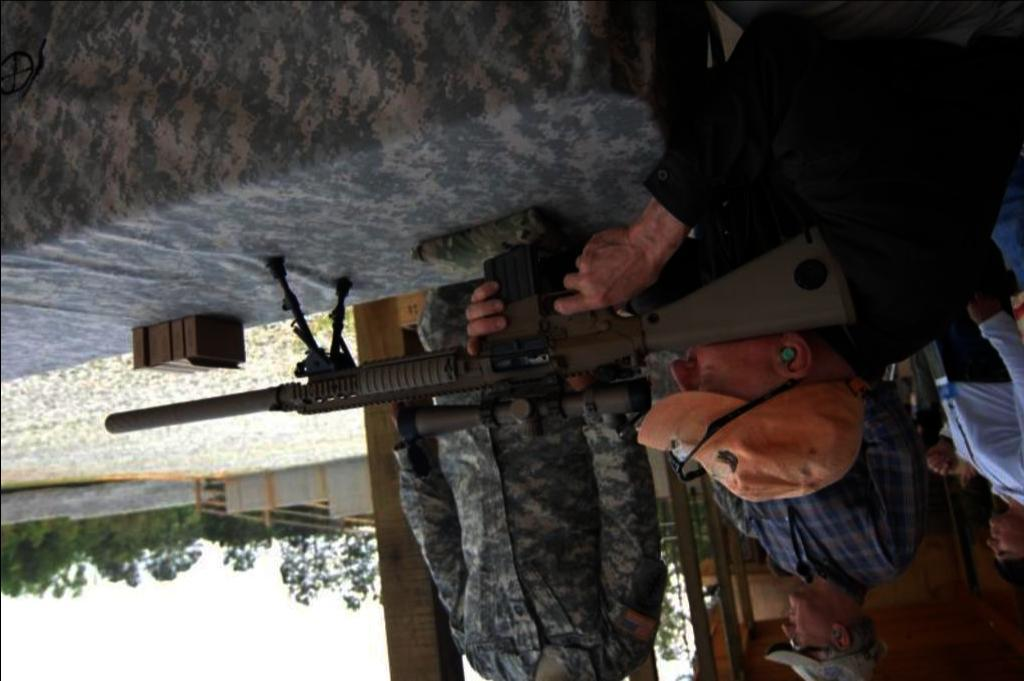gun: (106, 229, 858, 436)
